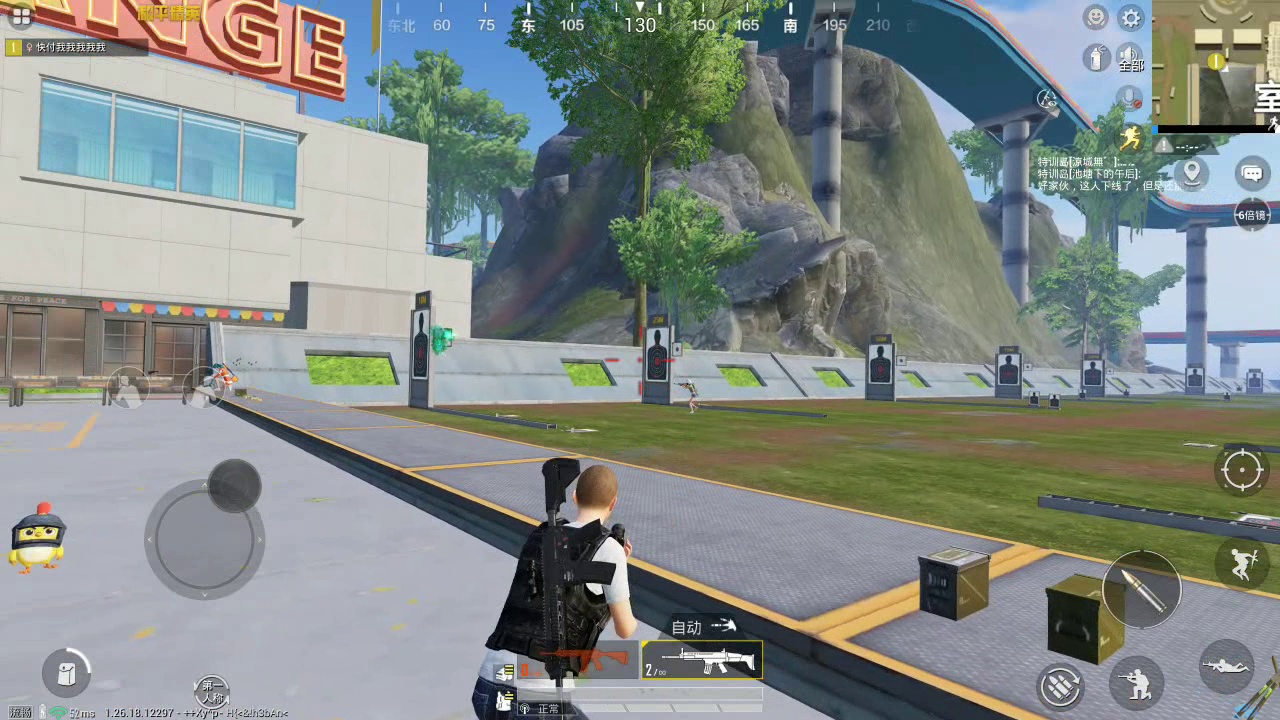enemy: (675, 378, 702, 415), (207, 362, 233, 391)
